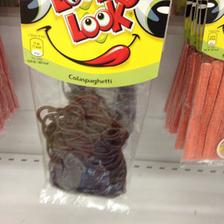Suessigkeit: (22, 0, 150, 200), (183, 7, 223, 160)
